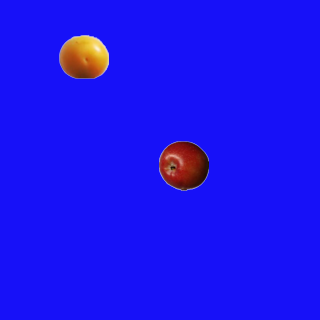Apple Braeburn: (158, 140, 208, 190)
Cherry Wax Yellow: (58, 31, 108, 81)
